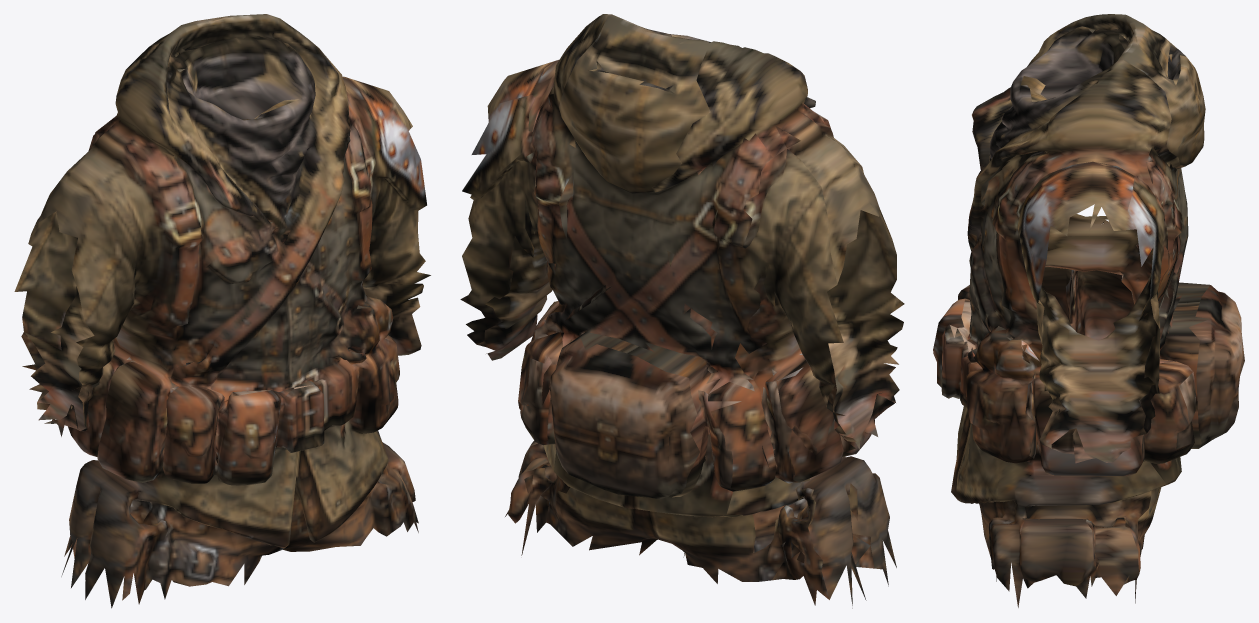
Rendered from chest.glb.
The picture shows the model from 3 angles, left to right: view 1: azimuth 30°, elevation 25°; view 2: azimuth 150°, elevation 25°; view 3: azimuth 270°, elevation 25°; orthographic projection. The views are drawn at different scales.
Visible parts, largest first — view 1: Warden / chest / two-view proof; view 2: Warden / chest / two-view proof; view 3: Warden / chest / two-view proof.
Boxes of the visible parts, x1,y1,x2,y2 form: Warden / chest / two-view proof: (14, 14, 430, 608); Warden / chest / two-view proof: (460, 14, 904, 608); Warden / chest / two-view proof: (933, 14, 1244, 607).
Bounding box in the file's own units: 0.6785 × 0.938 × 0.517.
Materials: 1 (1 with a texture image).
